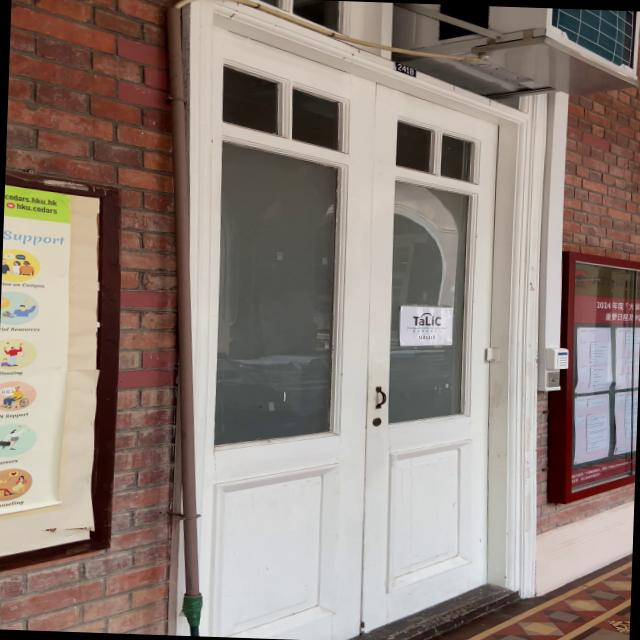room241b: (390, 60, 420, 78)
